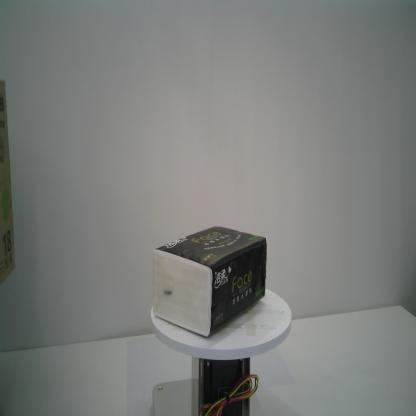Tissue: (152, 225, 268, 339)
